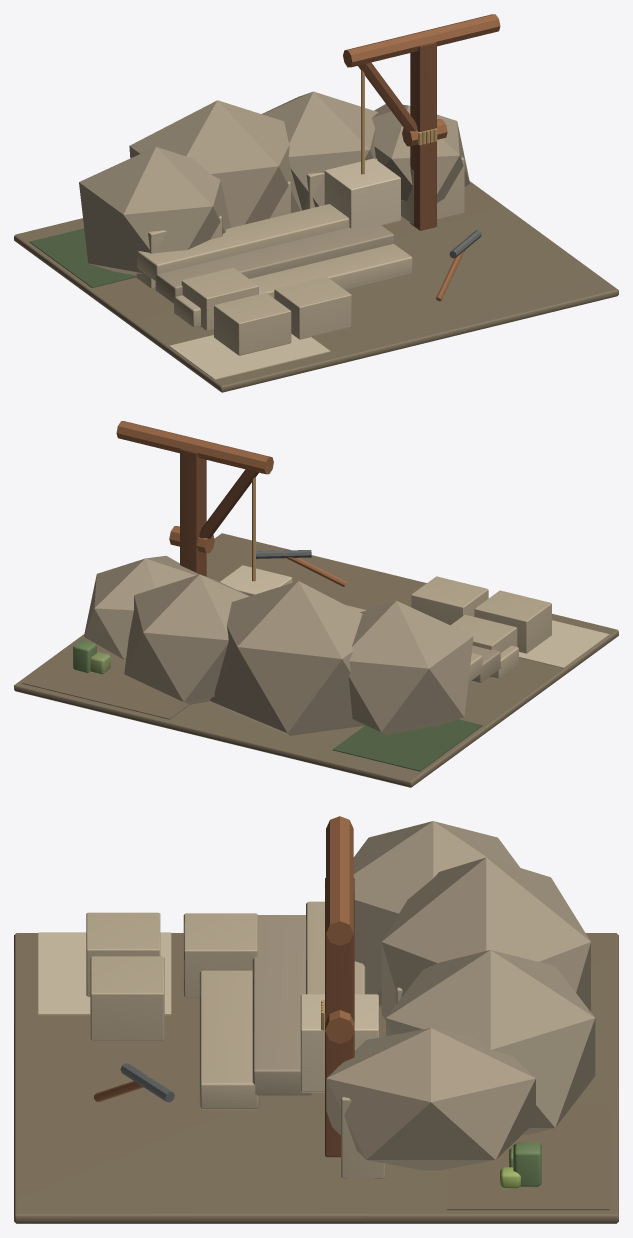
Rendered from quarry.glb.
3 views of the same model, one above another, from view 1: azimuth 30°, elevation 25°; view 2: azimuth 150°, elevation 25°; view 3: azimuth 270°, elevation 25° (orthographic). The views are drawn at different scales.
Parts seen in each view (by area): view 1: quarry; view 2: quarry; view 3: quarry.
Part boxes in pixels (box(x1,y1,x2,y2)): quarry: box(14, 14, 618, 392); quarry: box(14, 421, 618, 787); quarry: box(14, 816, 618, 1223).
Size of the model in its own units: 3.15 by 1.76 by 2.85.
